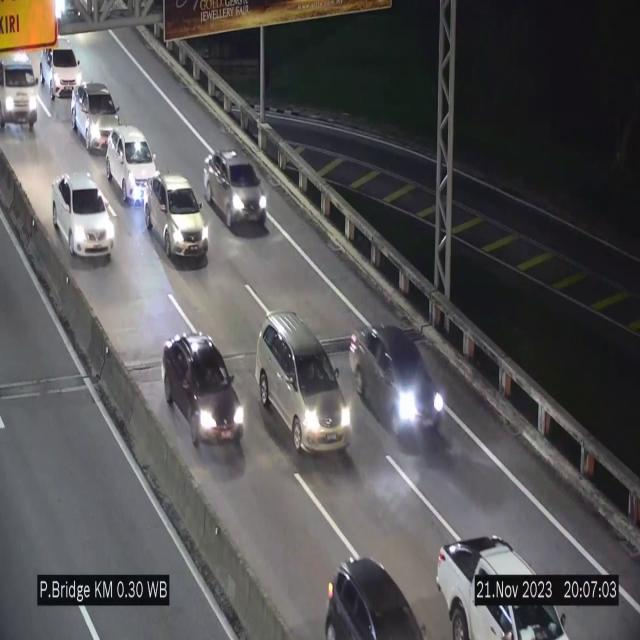Car: (432, 526, 578, 640), (256, 308, 356, 468), (349, 320, 446, 448), (307, 548, 428, 640), (164, 334, 244, 452), (145, 174, 209, 260), (204, 149, 268, 232), (54, 172, 114, 257), (106, 126, 162, 204), (0, 45, 40, 139), (39, 32, 87, 109), (72, 82, 122, 154)
